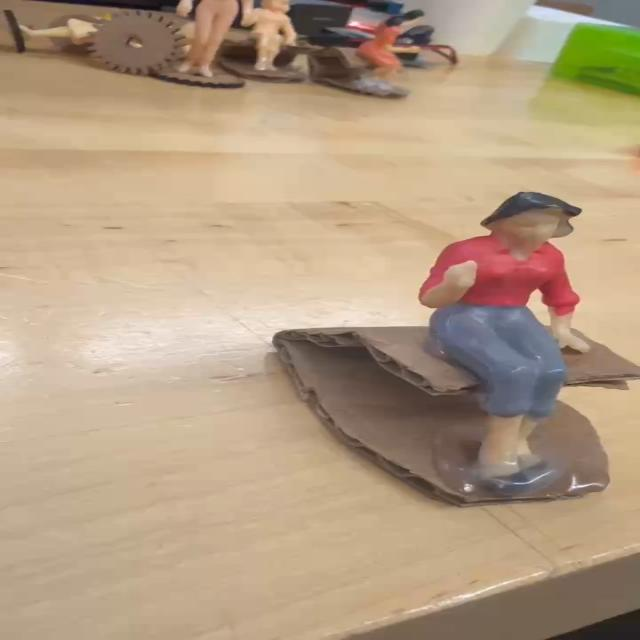Authorized: (393, 166, 632, 504)
